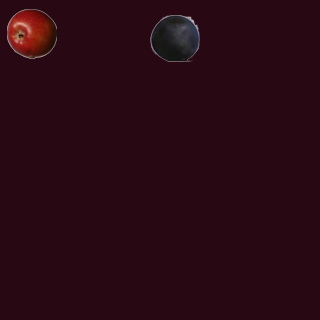Apple Braeburn: (6, 8, 56, 58)
Grape Blue: (149, 12, 199, 62)
